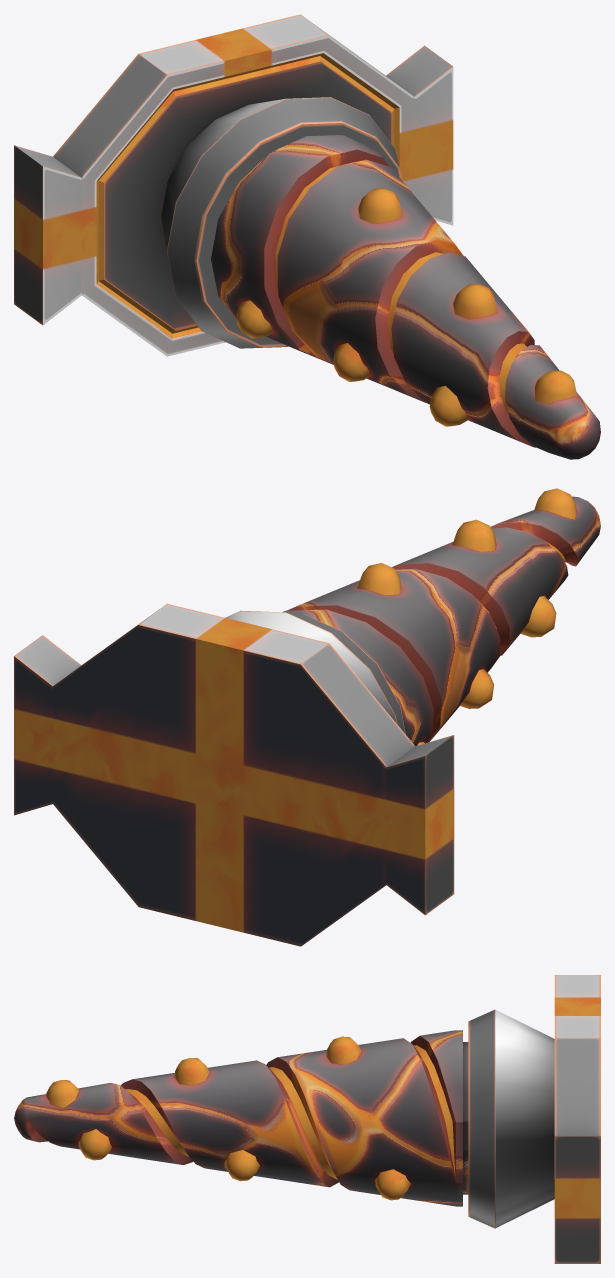
File: front_drill_arena_2.fbx
3 views of the same model, one above another, from view 1: azimuth 30°, elevation 25°; view 2: azimuth 150°, elevation 25°; view 3: azimuth 270°, elevation 25° (orthographic). The views are drawn at different scales.
Parts seen in each view (by area): view 1: Cylinder.183, Cylinder.184; view 2: Cylinder.183, Cylinder.184; view 3: Cylinder.184, Cylinder.183.
Boxes of the visible parts, box(x1,y1,x2,y2) form: Cylinder.183: box(14, 14, 453, 356); Cylinder.184: box(211, 135, 600, 459); Cylinder.183: box(14, 603, 454, 946); Cylinder.184: box(282, 488, 600, 746); Cylinder.184: box(14, 1030, 468, 1206); Cylinder.183: box(468, 975, 600, 1263).
Size of the model in its own units: 159 by 104 by 246.
